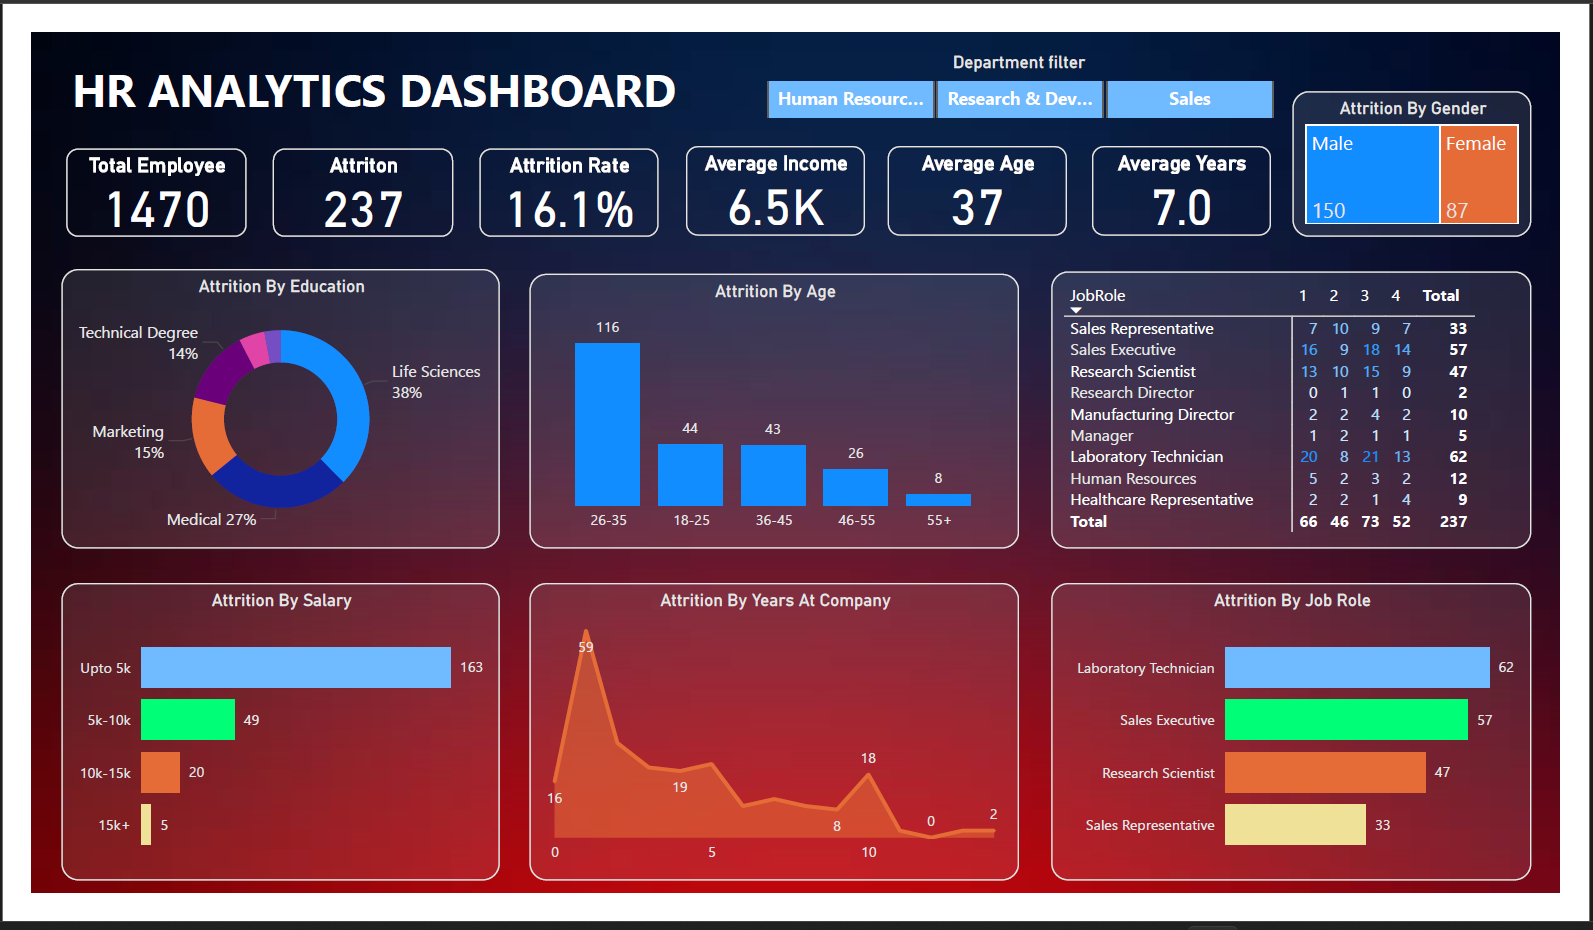

The page's visual inventory and layout, read from the dashboard file:
{"tool":"powerbi","page":{"name":"Page 1","canvas":[1280,720],"ordinal":0},"visuals":[{"type":"card","title":"Total Employee","fields":{"Values":["CountNonNull(HR_Analytics.EmpID)"]},"box":[28.8,96.6,150.8,74.6],"z":0},{"type":"card","title":"Attriton","fields":{"Values":["Sum(HR_Analytics.Attrition_Count)"]},"box":[201.7,96.6,150.8,74.6],"z":1000},{"type":"card","title":"Attrition Rate","fields":{"Values":["HR_Analytics.Attiriton Rate"]},"box":[374.6,96.6,150.8,74.6],"z":2000},{"type":"card","title":"Average Income","fields":{"Values":["Avg(HR_Analytics.MonthlyIncome)"]},"box":[548.2,95.3,149.7,74.9],"z":3000},{"type":"card","title":"Average Age","fields":{"Values":["Avg(HR_Analytics.Age)"]},"box":[717.2,95.3,149.7,74.9],"z":4000},{"type":"card","title":"Average  Years","fields":{"Values":["Avg(HR_Analytics.YearsAtCompany)"]},"box":[888.3,95.3,149.7,74.9],"z":5000},{"type":"donutChart","title":"Attrition By Education","fields":{"Category":["HR_Analytics.EducationField"],"Y":["Sum(HR_Analytics.Attrition_Count)"]},"box":[25.4,198.3,366.1,233.9],"z":6000},{"type":"columnChart","title":"Attrition By Age","fields":{"Category":["HR_Analytics.AgeGroup"],"Y":["Sum(HR_Analytics.Attrition_Count)"]},"box":[416.9,201.7,410.2,230.5],"z":7000},{"type":"pivotTable","fields":{"Rows":["HR_Analytics.JobRole"],"Columns":["HR_Analytics.JobSatisfaction"],"Values":["Sum(HR_Analytics.Attrition_Count)"]},"box":[854.2,200,401.7,232.2],"z":8000},{"type":"clusteredBarChart","title":"Attrition By Salary","fields":{"Category":["HR_Analytics.SalarySlab"],"Y":["Sum(HR_Analytics.Attrition_Count)"]},"box":[25.4,461,366.1,249.2],"z":9000},{"type":"clusteredBarChart","title":"Attrition By Job Role","fields":{"Category":["HR_Analytics.JobRole"],"Y":["Sum(HR_Analytics.Attrition_Count)"]},"box":[854.2,461,401.7,249.2],"z":10000},{"type":"areaChart","title":"Attrition By Years At Company","fields":{"Y":["Sum(HR_Analytics.Attrition_Count)"],"Category":["HR_Analytics.YearsAtCompany"]},"box":[416.9,461,410.2,249.2],"z":11000},{"type":"treemap","title":"Attrition By Gender","fields":{"Group":["HR_Analytics.Gender"],"Values":["Sum(HR_Analytics.Attrition_Count)"]},"box":[1055.9,49.2,200,122],"z":12000},{"type":"slicer","title":"Department filter","fields":{"Values":["HR_Analytics.Department"]},"box":[589.8,16.9,474.6,61],"z":13000},{"type":"textbox","box":[28.8,16.9,593.2,69.5],"z":14000}]}

Visuals, with their boxes on the page's 1280x720 design canvas (x1, y1, x2, y2). These are canvas units, not pixel positions in the 1593x930 screenshot, which may show the page scaled, cropped or inside an application window:
"Total Employee" card: bbox(29, 97, 180, 171)
"Attriton" card: bbox(202, 97, 352, 171)
"Attrition Rate" card: bbox(375, 97, 525, 171)
"Average Income" card: bbox(548, 95, 698, 170)
"Average Age" card: bbox(717, 95, 867, 170)
"Average  Years" card: bbox(888, 95, 1038, 170)
"Attrition By Education" donutChart: bbox(25, 198, 392, 432)
"Attrition By Age" columnChart: bbox(417, 202, 827, 432)
pivotTable - HR_Analytics.JobRole x HR_Analytics.JobSatisfaction: bbox(854, 200, 1256, 432)
"Attrition By Salary" clusteredBarChart: bbox(25, 461, 392, 710)
"Attrition By Job Role" clusteredBarChart: bbox(854, 461, 1256, 710)
"Attrition By Years At Company" areaChart: bbox(417, 461, 827, 710)
"Attrition By Gender" treemap: bbox(1056, 49, 1256, 171)
"Department filter" slicer: bbox(590, 17, 1064, 78)
textbox: bbox(29, 17, 622, 86)
